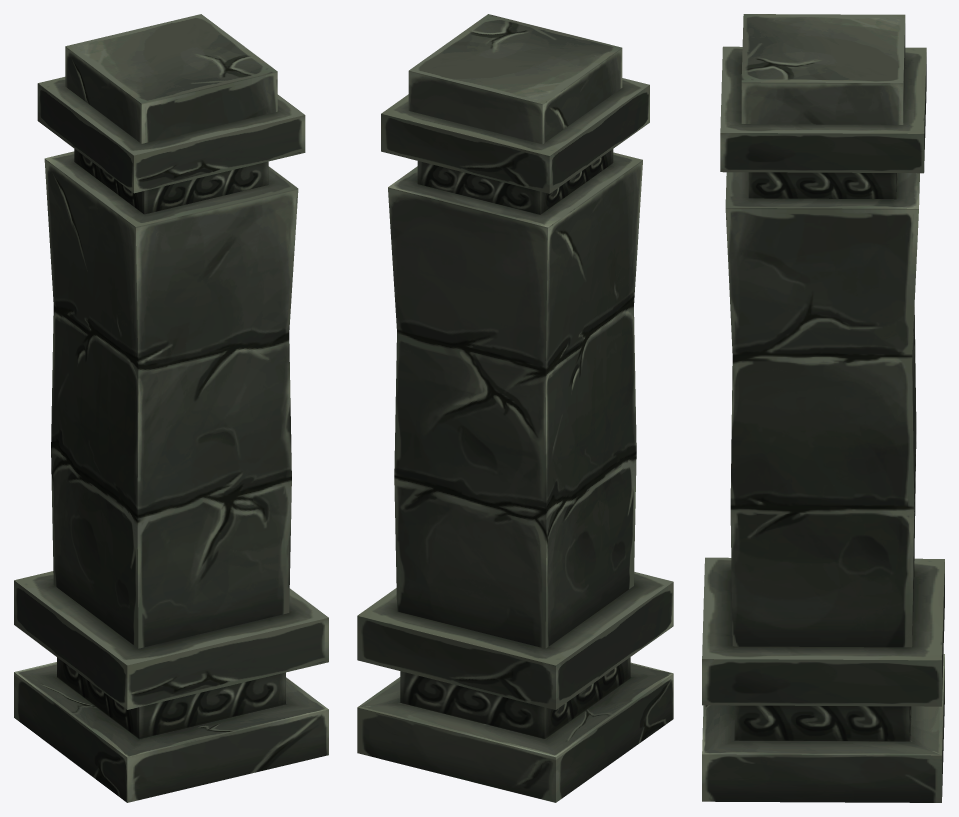
File: fence_wall_pillar.fbx
3 views of the same model, side by side, from view 1: azimuth 30°, elevation 25°; view 2: azimuth 150°, elevation 25°; view 3: azimuth 270°, elevation 25° (orthographic). The views are drawn at different scales.
Visible parts, largest first — view 1: fence_wall_pillar; view 2: fence_wall_pillar; view 3: fence_wall_pillar.
Part boxes in pixels (x1,y1,x2,y2): fence_wall_pillar: (14, 14, 328, 802); fence_wall_pillar: (357, 14, 673, 802); fence_wall_pillar: (702, 14, 944, 802).
Bounding box in the file's own units: 1.58 × 5.05 × 1.58.
